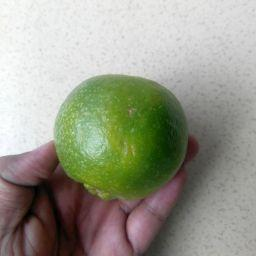Unripe: (54, 75, 189, 199)
